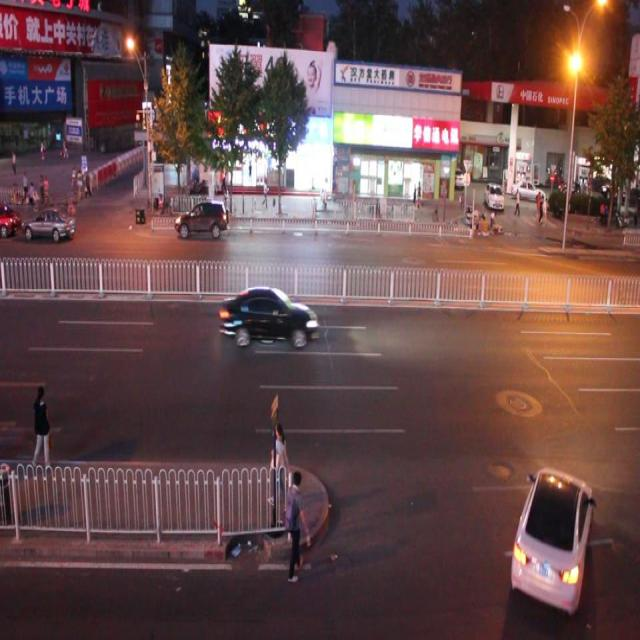car: (508, 462, 594, 613), (220, 284, 317, 348), (175, 196, 230, 240), (22, 202, 76, 244)
